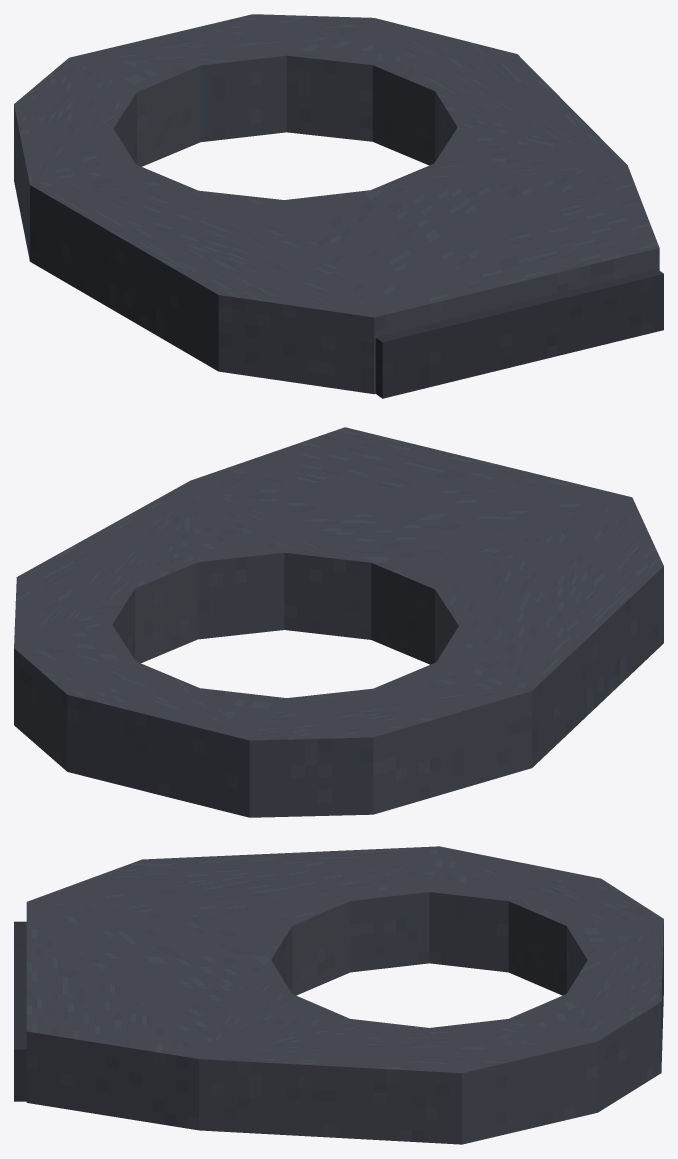
Rendered from wetsuit_hood.glb.
3 views of the same model, one above another, from view 1: azimuth 30°, elevation 25°; view 2: azimuth 150°, elevation 25°; view 3: azimuth 270°, elevation 25° (orthographic). The views are drawn at different scales.
Parts seen in each view (by area): view 1: block_waterproof hood shell, block_neck hem; view 2: block_waterproof hood shell; view 3: block_waterproof hood shell, block_neck hem.
Boxes of the visible parts, left/top/right/bottom form: block_waterproof hood shell: left=14, top=14, right=659, bottom=394; block_neck hem: left=375, top=269, right=663, bottom=398; block_waterproof hood shell: left=14, top=427, right=663, bottom=817; block_waterproof hood shell: left=26, top=846, right=663, bottom=1144; block_neck hem: left=14, top=921, right=26, bottom=1101.
Size of the model in its own units: 0.2082 by 0.0305 by 0.252.
Materials: 1 (1 with a texture image).
